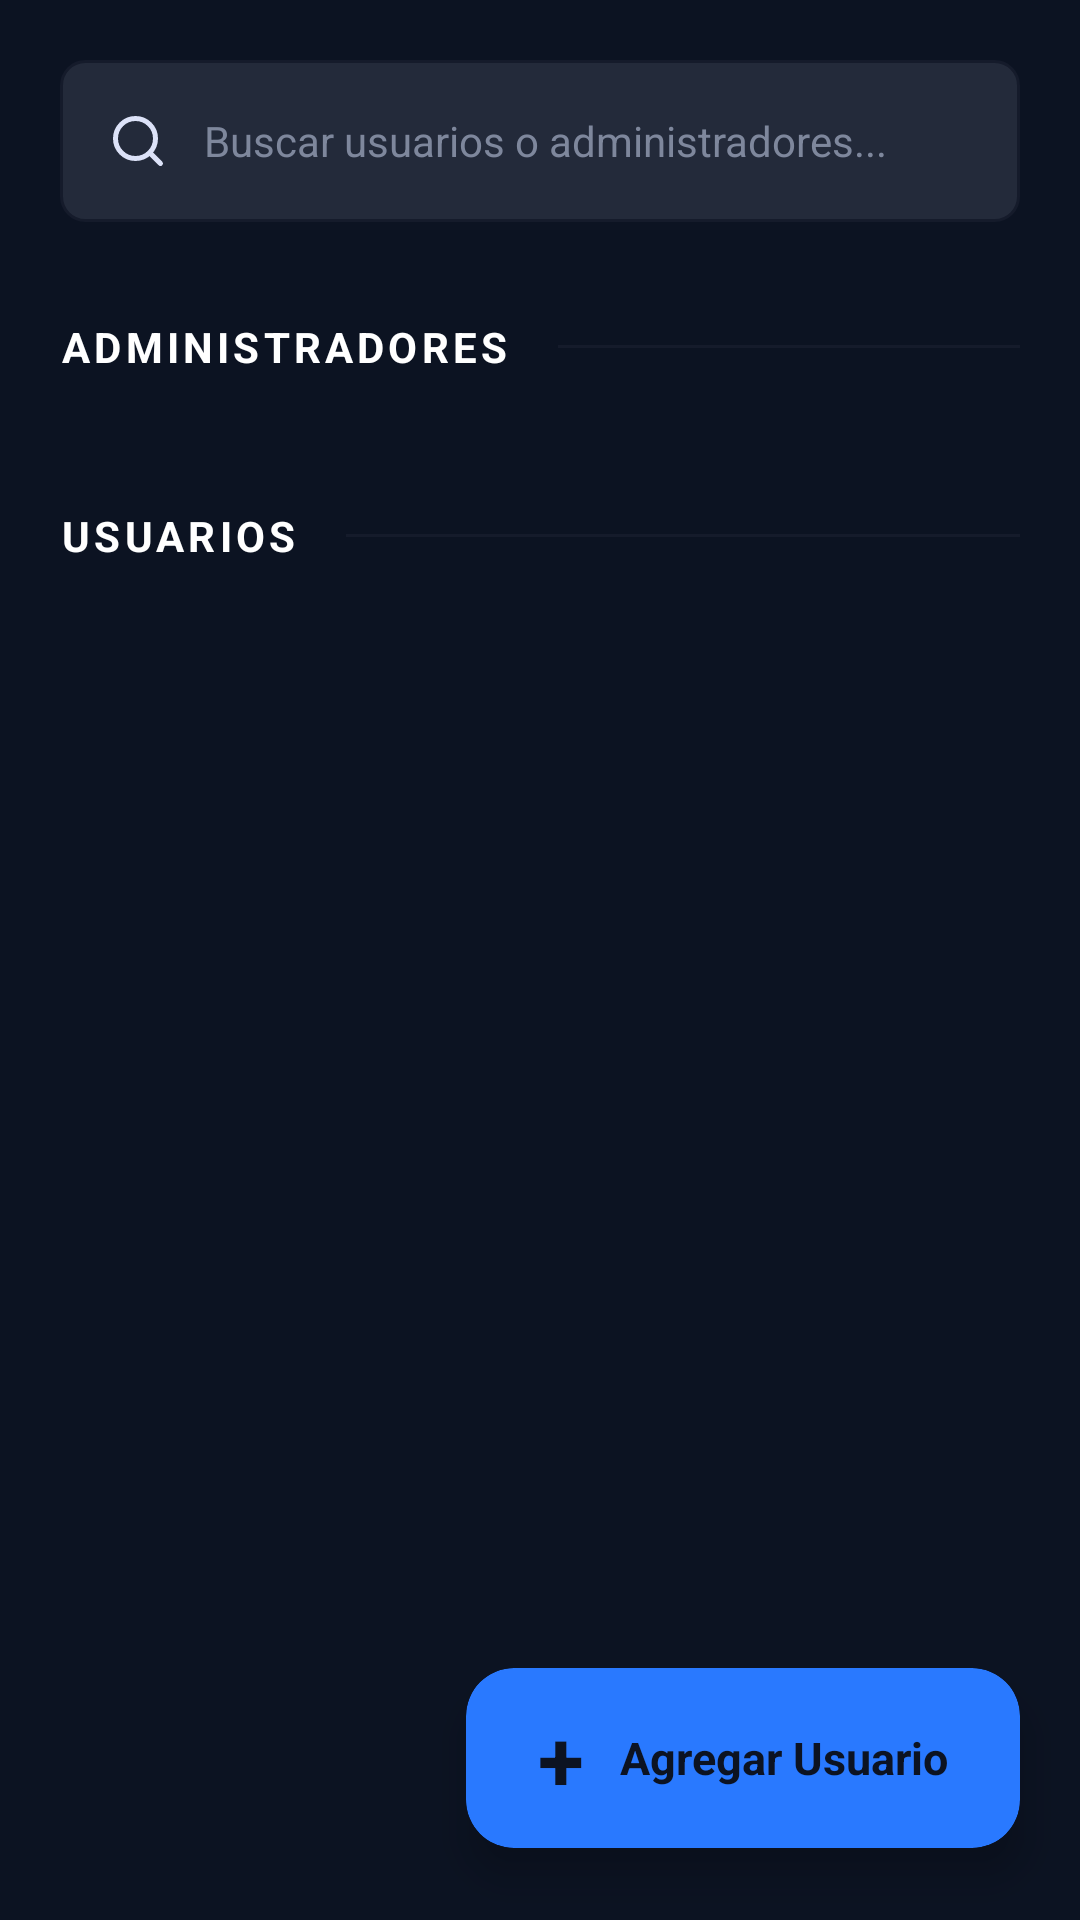

Icons on this 1080px×1920px Android screen, each with its box as (x1, y1, x2, y2):
Buscar novelas, autores…: (113, 116, 163, 166)
